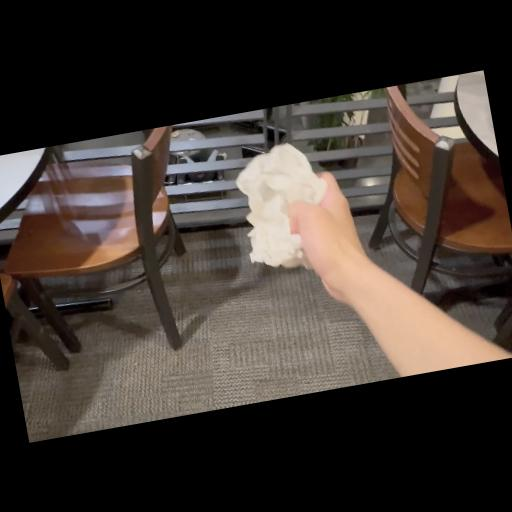napkin: (228, 136, 342, 276)
